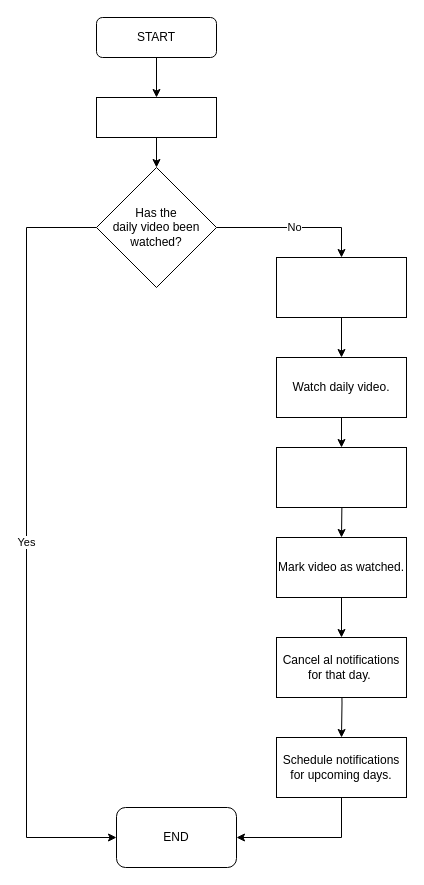
This 424x885 diagram has some shape labels left out. The shapes that lost their labels are listed below. From the top down, each one's centre as x and y in pixels, then its label:
(156,117): Enter the appliaction
(341,287): Clear old schedule and create new notification plan based on configuration.
(341,477): Fill and submit form after watching video (if form is available)
